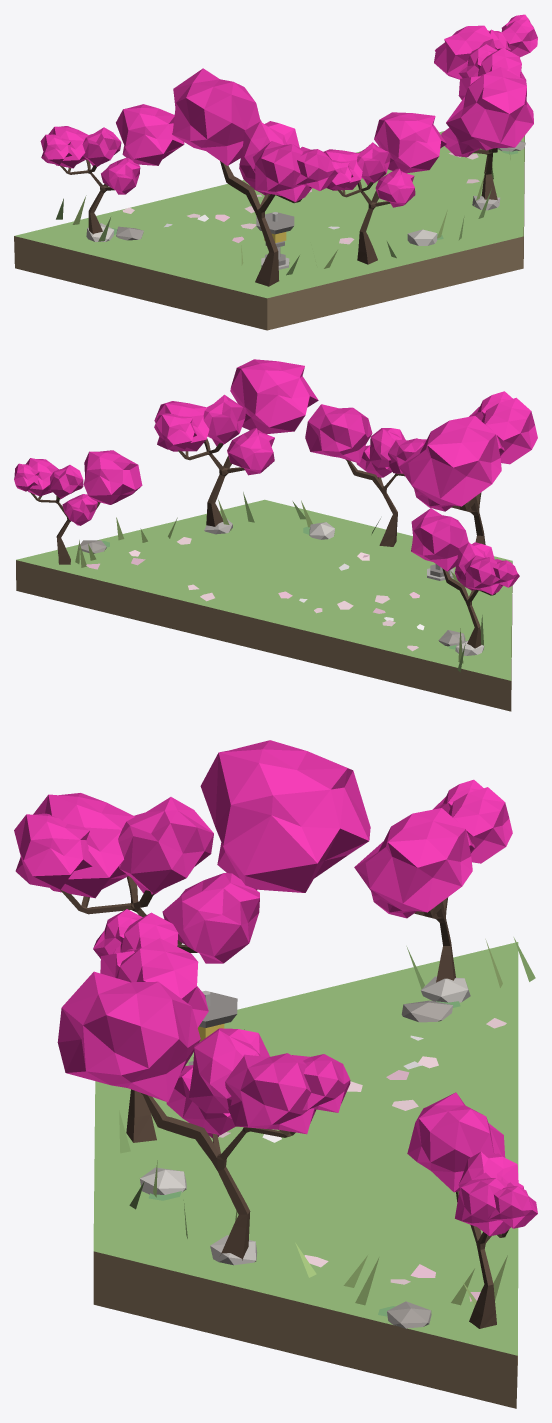
Rendered from sakura_half_sprint2_tryfix.glb.
3 renders of one model, top to bottom at view 1: azimuth 30°, elevation 25°; view 2: azimuth 150°, elevation 25°; view 3: azimuth 270°, elevation 25°, orthographic. The views are drawn at different scales.
Parts seen in each view (by area): view 1: HexBase, Icosphere.010, Icosphere.020, Icosphere.031, Icosphere.001, Icosphere.012, Cube.002, Icosphere.015, Icosphere.013, Icosphere.011, Icosphere.035, Icosphere.004 (+15 smaller); view 2: HexBase, Icosphere.010, Icosphere.020, Icosphere.031, Icosphere.015, Icosphere.001, Icosphere.012, Icosphere.024, Icosphere.023, Icosphere.021, Icosphere.022, Cube.004 (+15 smaller); view 3: HexBase, Icosphere.010, Icosphere.020, Icosphere.001, Icosphere.013, Icosphere.014, Icosphere.022, Icosphere.015, Icosphere.012, Icosphere.011, Icosphere.023, Icosphere.031 (+18 smaller).
Part boxes in pixels (box(x1,y1,x2,y2)): HexBase: box(14, 131, 524, 330); Icosphere.010: box(172, 68, 261, 165); Icosphere.020: box(446, 67, 533, 150); Icosphere.031: box(374, 112, 446, 173); Icosphere.001: box(116, 104, 184, 165); Icosphere.012: box(253, 141, 311, 201); Cube.002: box(220, 161, 310, 286); Icosphere.015: box(434, 25, 495, 79); Icosphere.013: box(239, 121, 299, 178); Icosphere.011: box(293, 146, 337, 190); Icosphere.035: box(375, 168, 415, 207); Icosphere.004: box(82, 127, 121, 166); HexBase: box(16, 499, 512, 711); Icosphere.010: box(399, 416, 501, 506); Icosphere.020: box(230, 359, 318, 433); Icosphere.031: box(305, 404, 372, 463); Icosphere.015: box(83, 450, 142, 504); Icosphere.001: box(411, 508, 468, 571); Icosphere.012: box(481, 397, 537, 464); Icosphere.024: box(227, 428, 274, 475); Icosphere.023: box(203, 394, 246, 446); Icosphere.021: box(154, 413, 196, 449); Icosphere.022: box(154, 401, 209, 451); Cube.004: box(178, 438, 244, 526); HexBase: box(93, 942, 518, 1408); Icosphere.010: box(200, 740, 370, 892); Icosphere.020: box(57, 971, 200, 1102); Icosphere.001: box(354, 808, 472, 912); Icosphere.013: box(118, 797, 213, 894); Icosphere.014: box(162, 873, 259, 963); Icosphere.022: box(225, 1053, 315, 1134); Icosphere.015: box(407, 1092, 505, 1192); Icosphere.012: box(33, 793, 134, 898); Icosphere.011: box(14, 813, 92, 889); Icosphere.023: box(189, 1028, 269, 1113); Icosphere.031: box(116, 938, 208, 1027).
Size of the model in its own units: 5.02 by 1.95 by 2.67.
